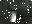person: (10, 8, 18, 22)
